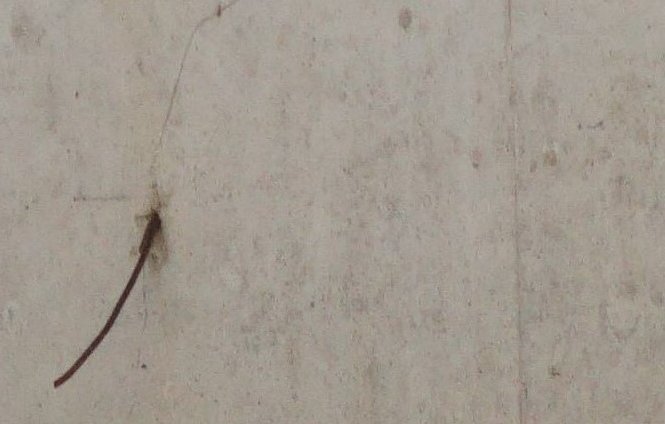Crack: (156, 1, 240, 147)
Exposed reinforcement: (53, 211, 162, 390)
